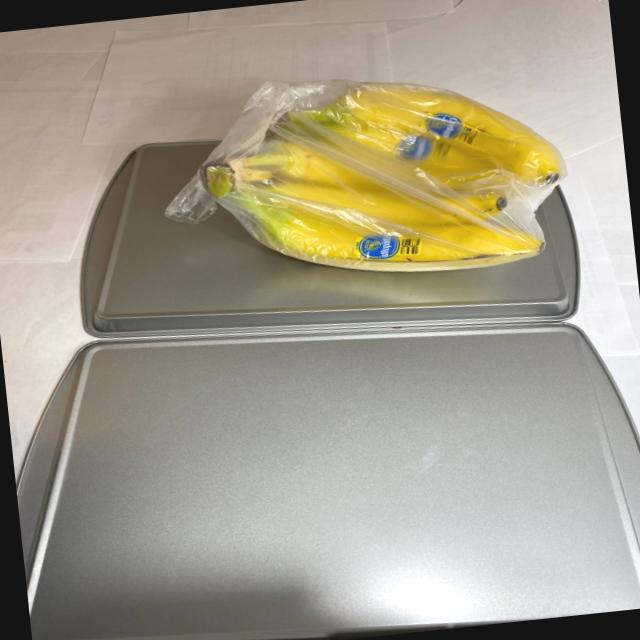banana: (175, 48, 572, 306)
